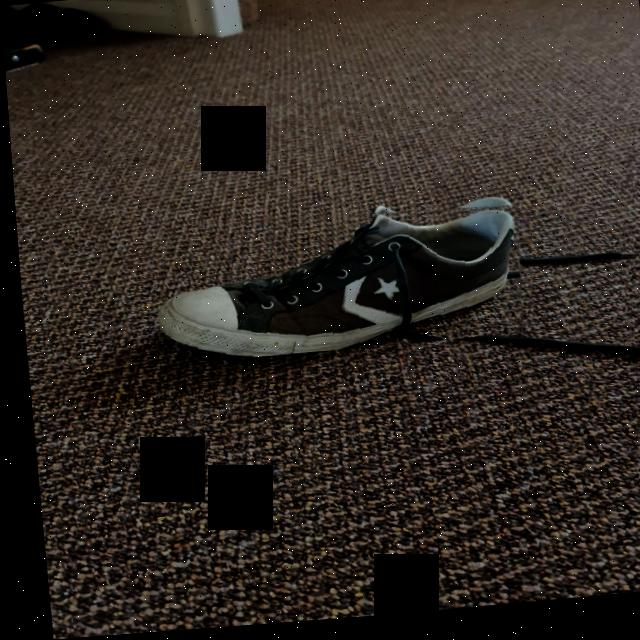shoe: (146, 199, 522, 367)
